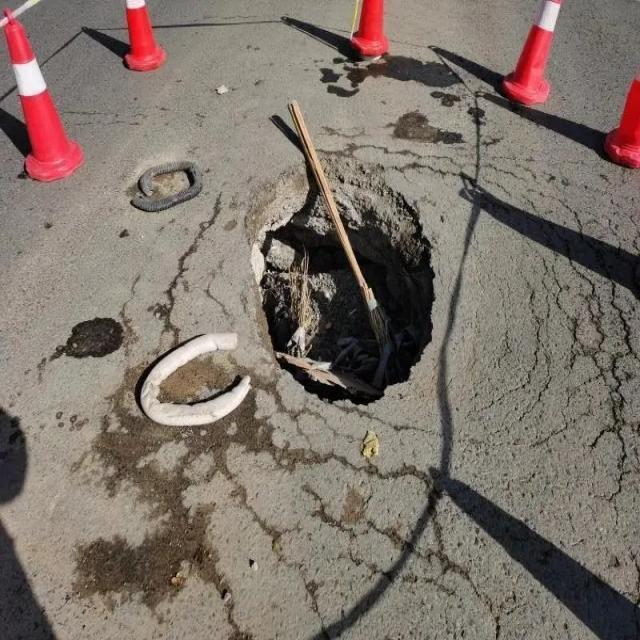Pothole: (242, 148, 437, 407)
